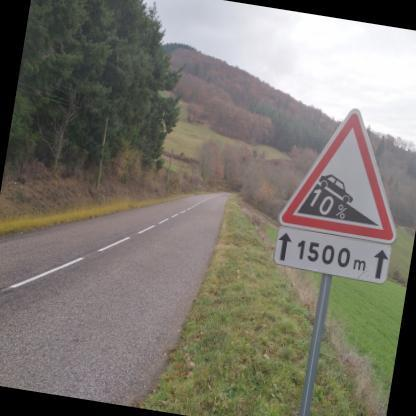road_sign: (279, 110, 393, 243), (272, 227, 390, 283)
